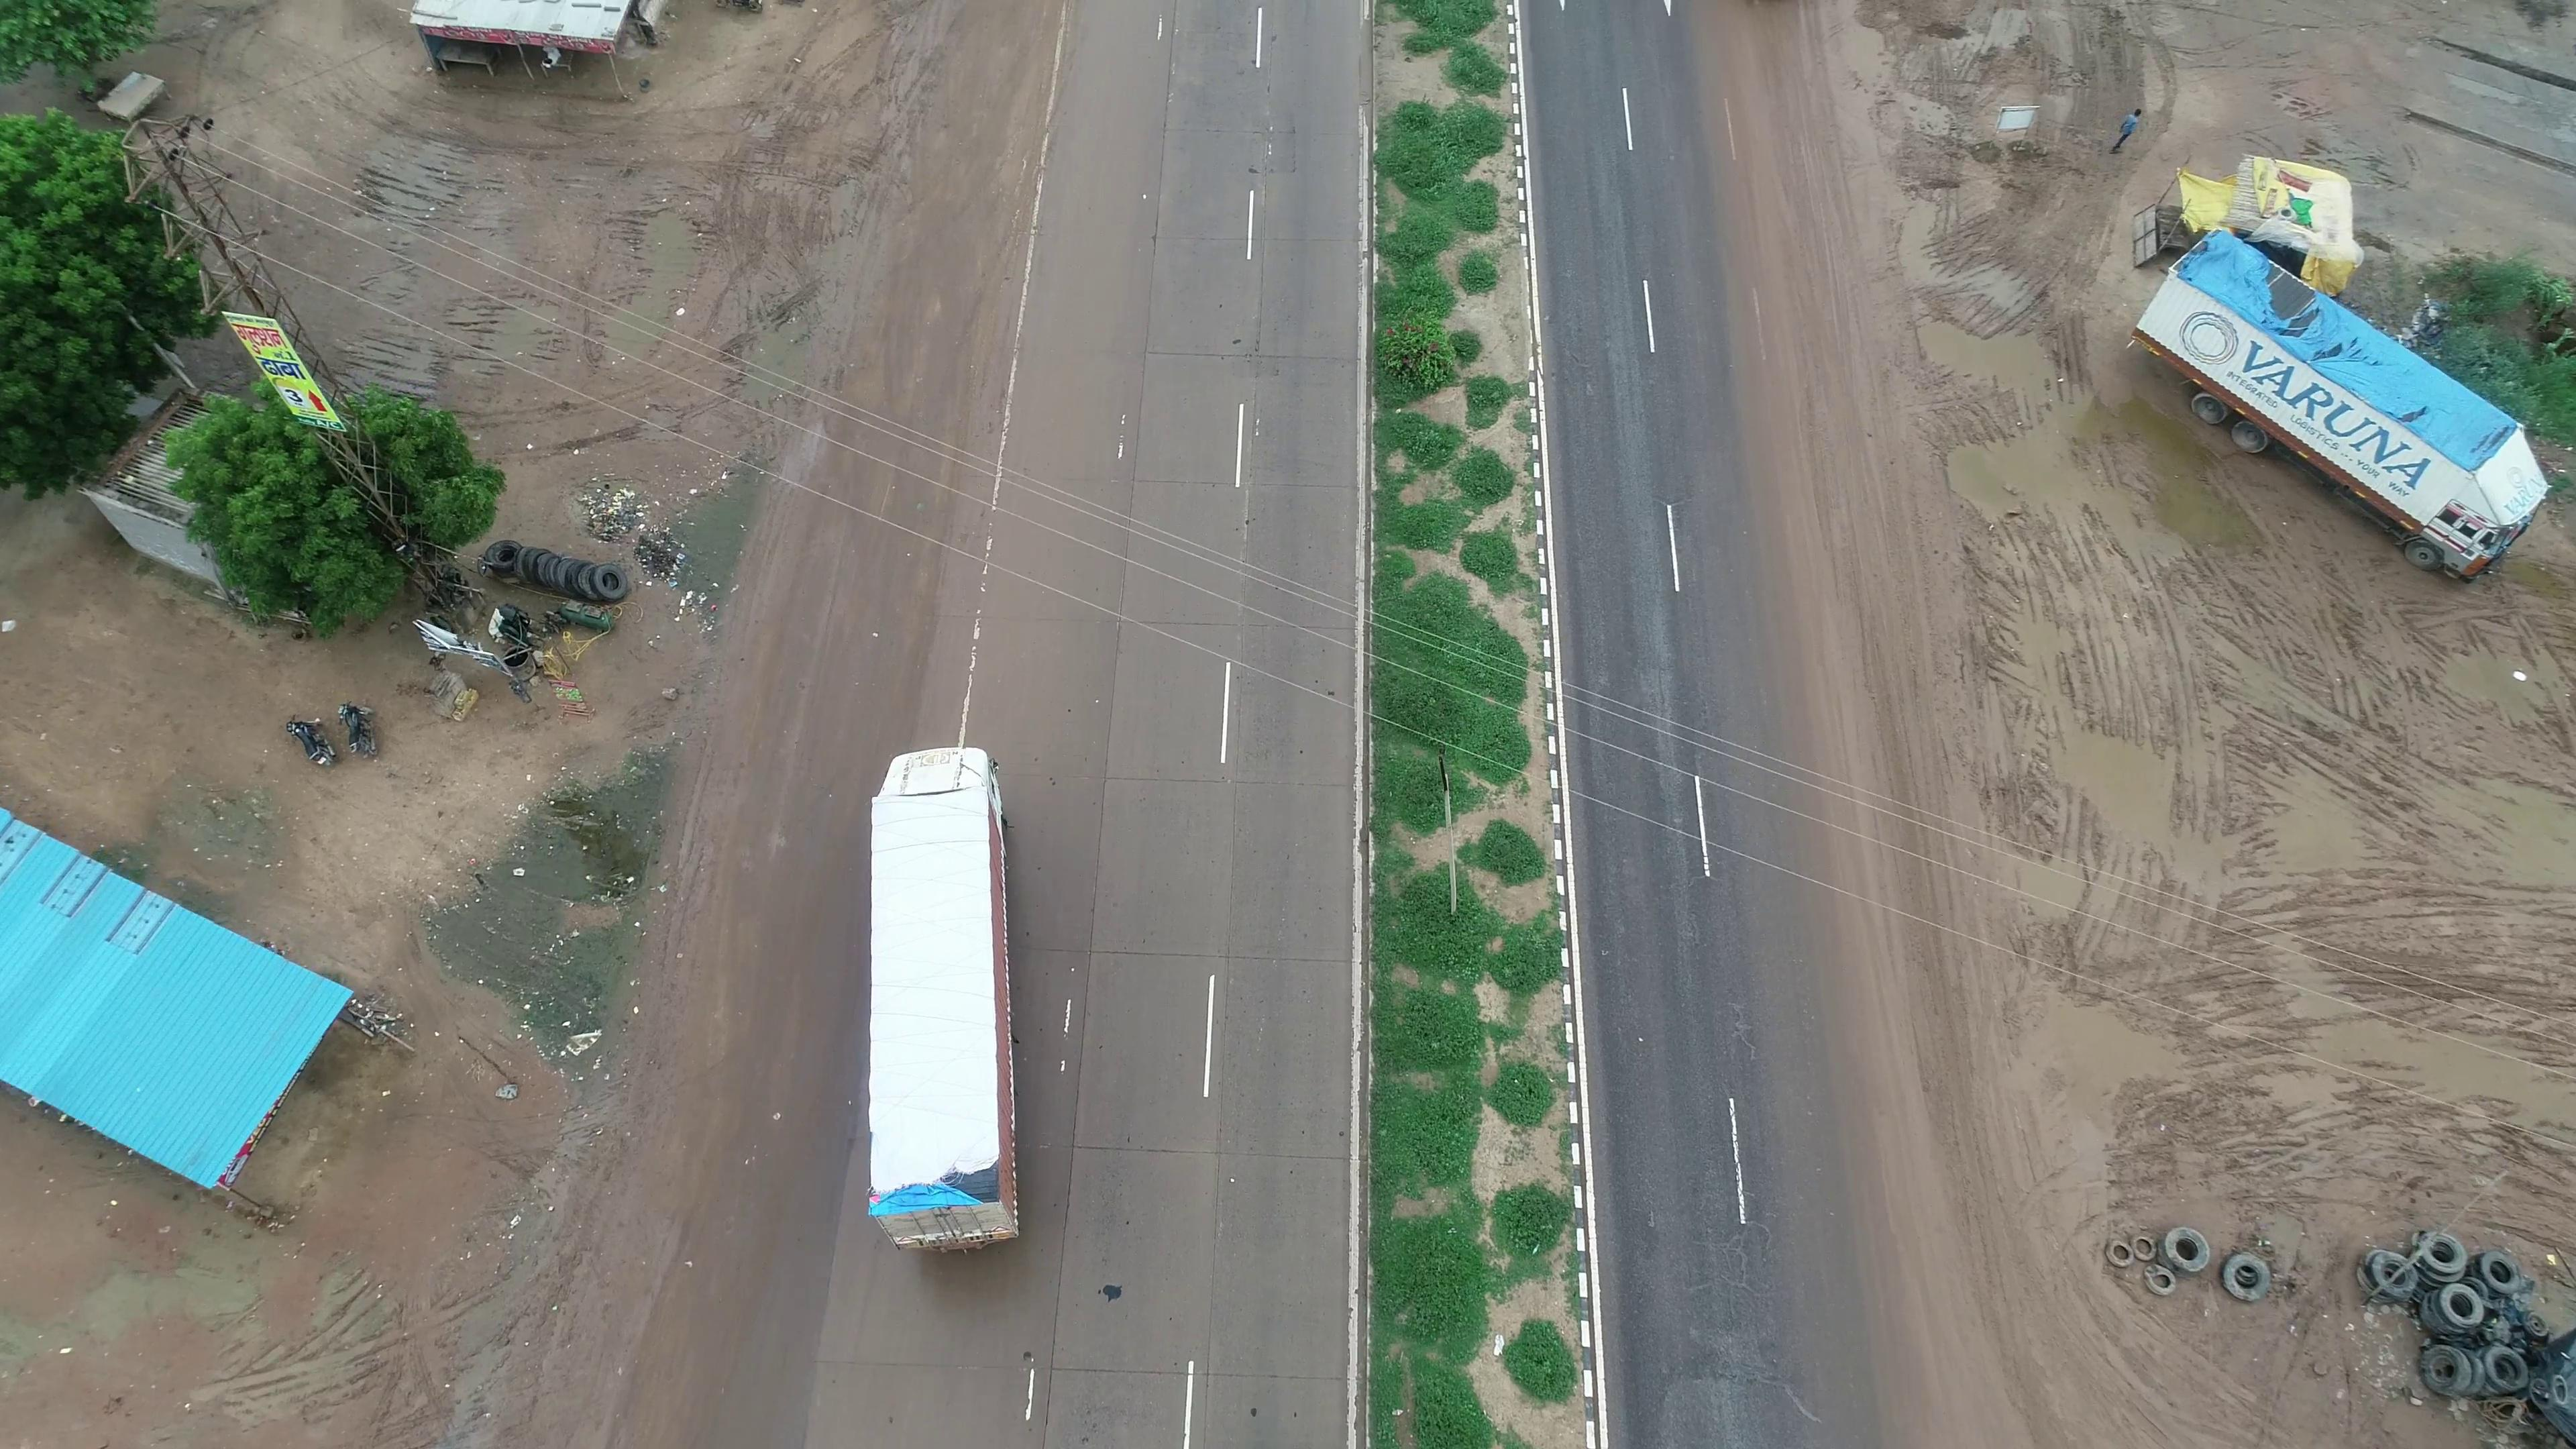Muddy_road: (1813, 766, 2105, 1430), (1723, 226, 1987, 722)
